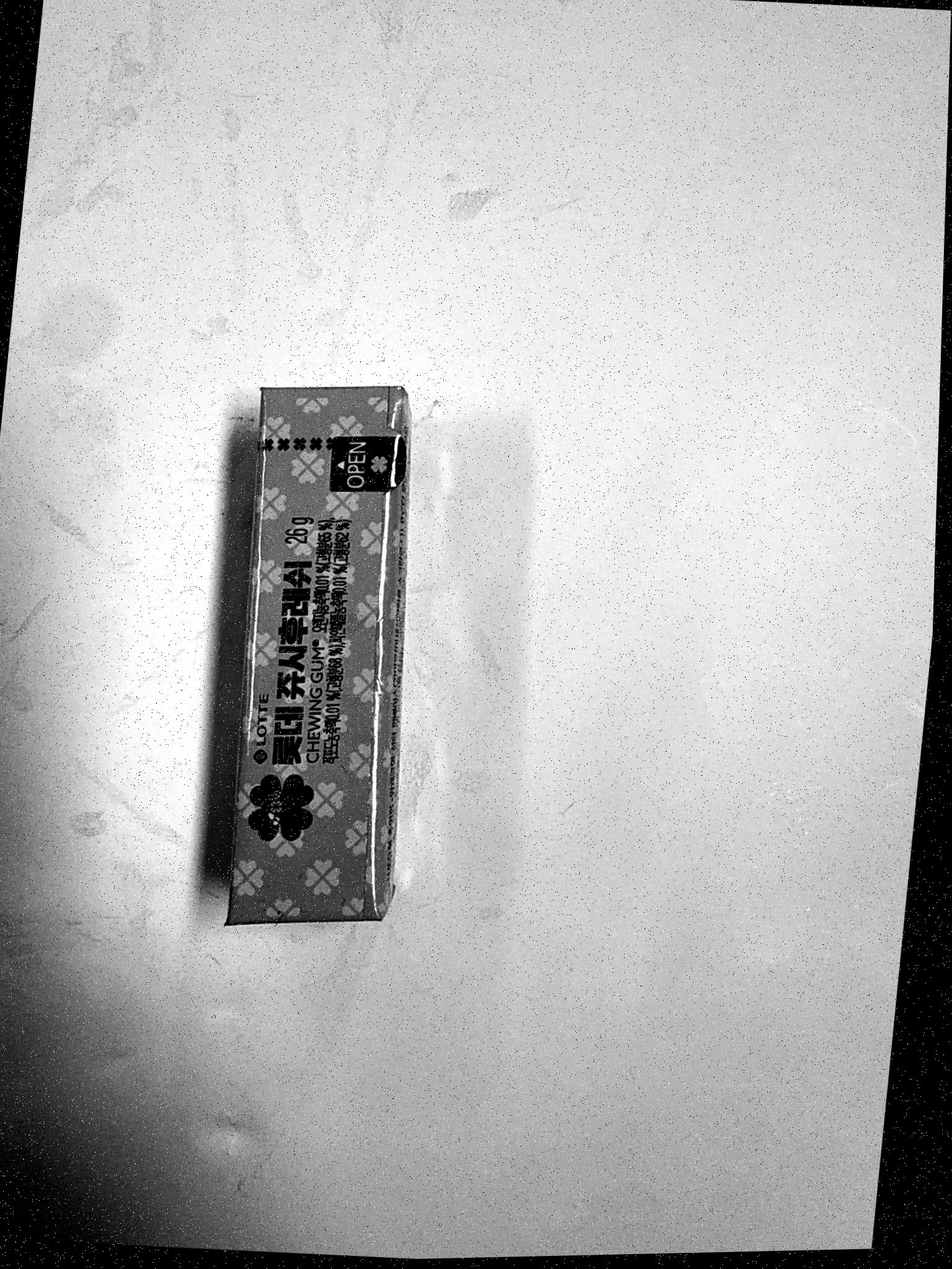gum_yellow: (228, 387, 410, 925)
